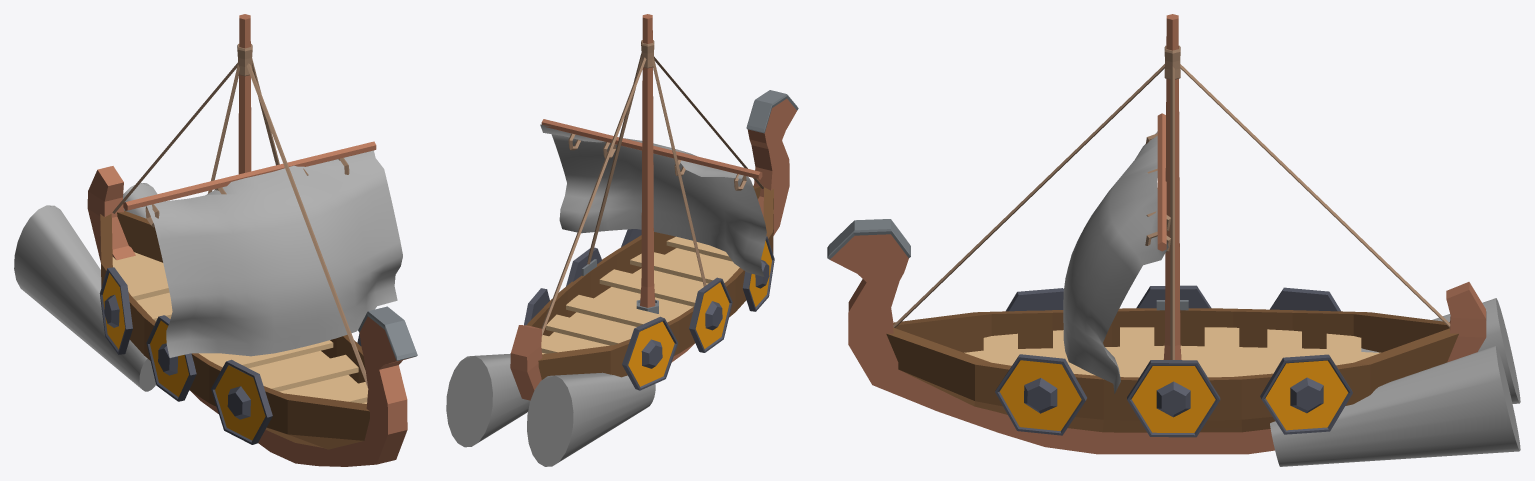
File: spacelong.fbx
3 renders of one model, left to right at view 1: azimuth 30°, elevation 25°; view 2: azimuth 150°, elevation 25°; view 3: azimuth 270°, elevation 25°, orthographic. The views are drawn at different scales.
Visible parts, largest first — view 1: Cube1; view 2: Cube1; view 3: Cube1.
Boxes of the visible parts, <box> form: Cube1: <box>14,14,417,466</box>; Cube1: <box>446,14,798,466</box>; Cube1: <box>827,14,1520,466</box>.
Size of the model in its own units: 3.13 by 4.88 by 7.09.
